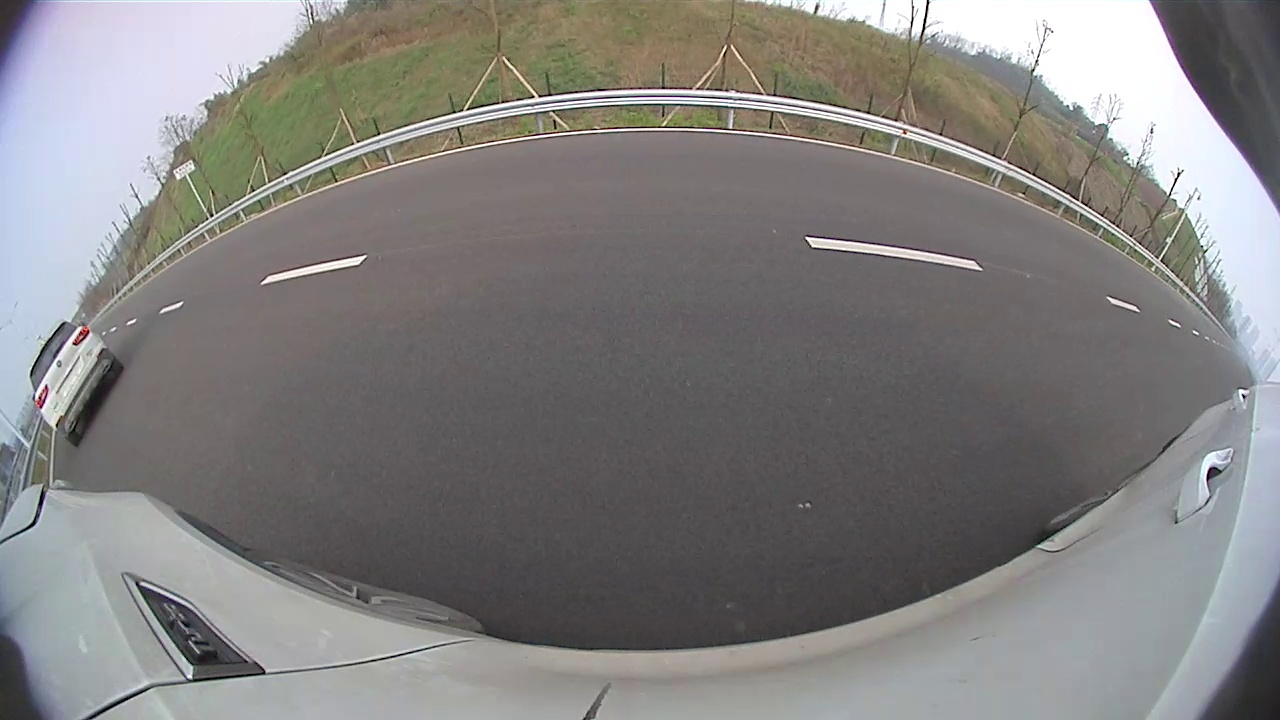car: (28, 321, 124, 447)
